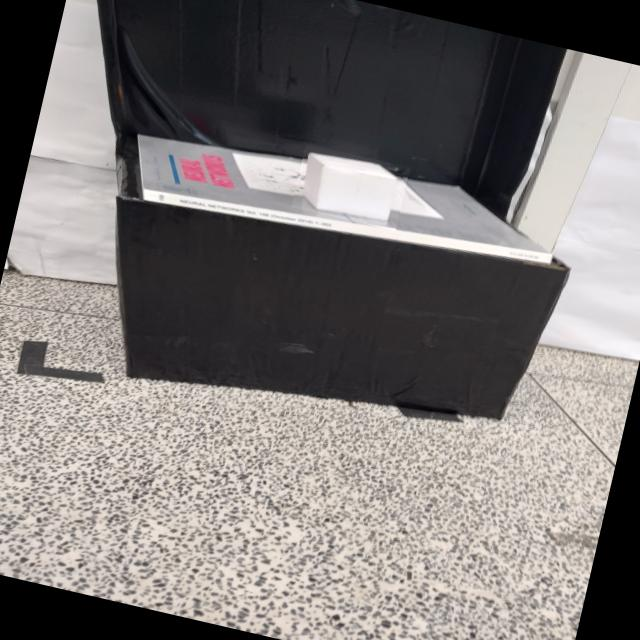bale: (299, 150, 406, 226)
